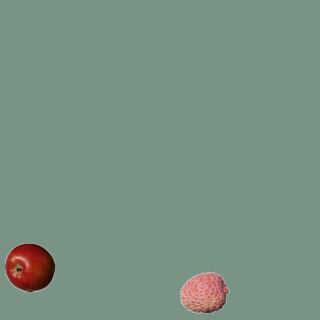Apple Braeburn: (4, 242, 54, 292)
Lychee: (179, 267, 229, 317)
